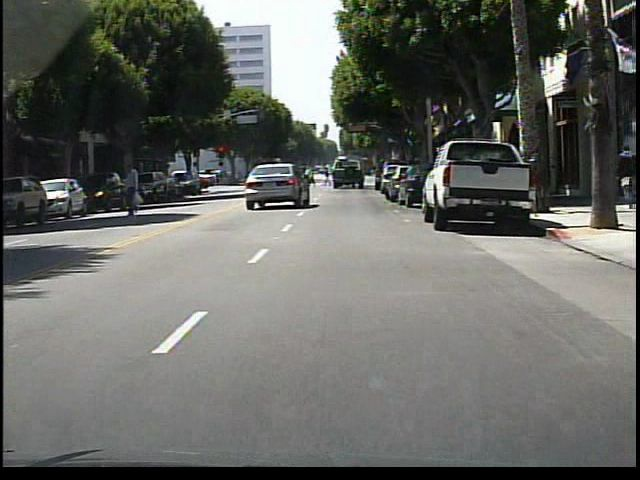person: (614, 146, 637, 211), (124, 159, 146, 218), (323, 164, 333, 189), (310, 167, 311, 189)
